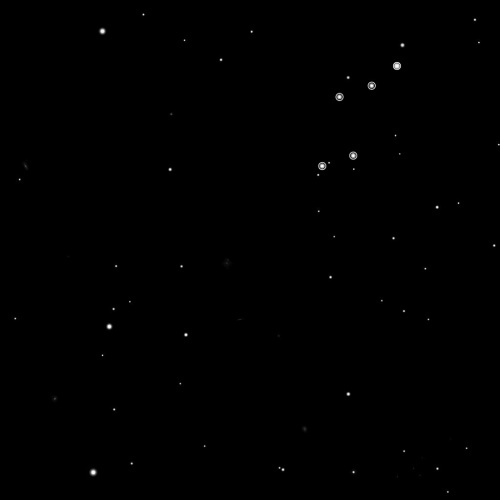lyra: (314, 56, 404, 174)
